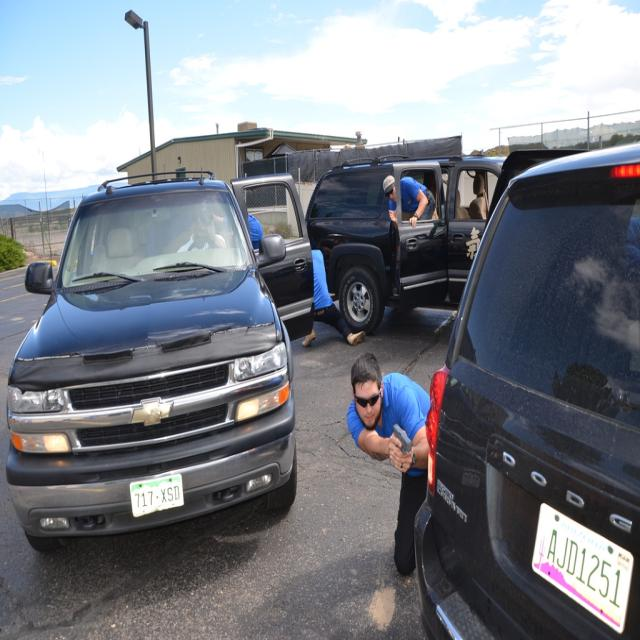car: (2, 170, 297, 552)
